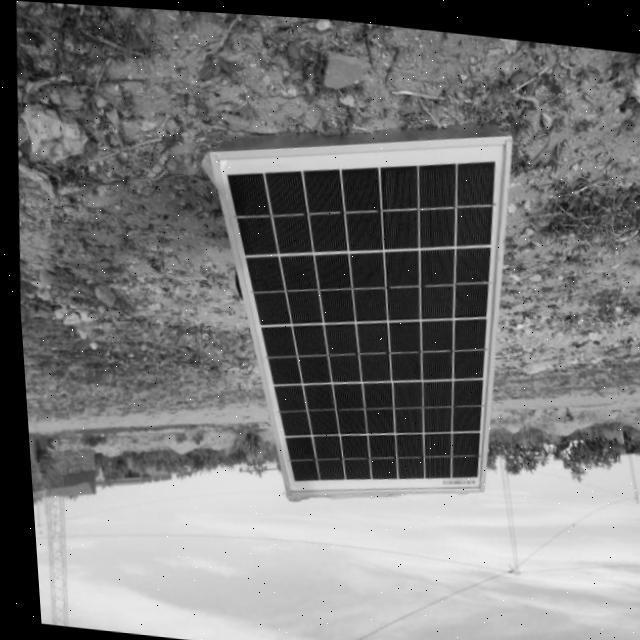Normal Solar Panel: (192, 109, 530, 516)
